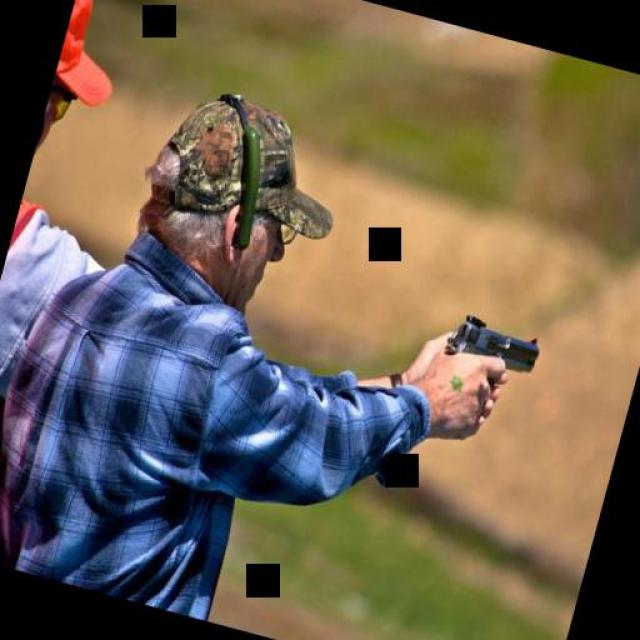gun: (434, 304, 546, 406)
